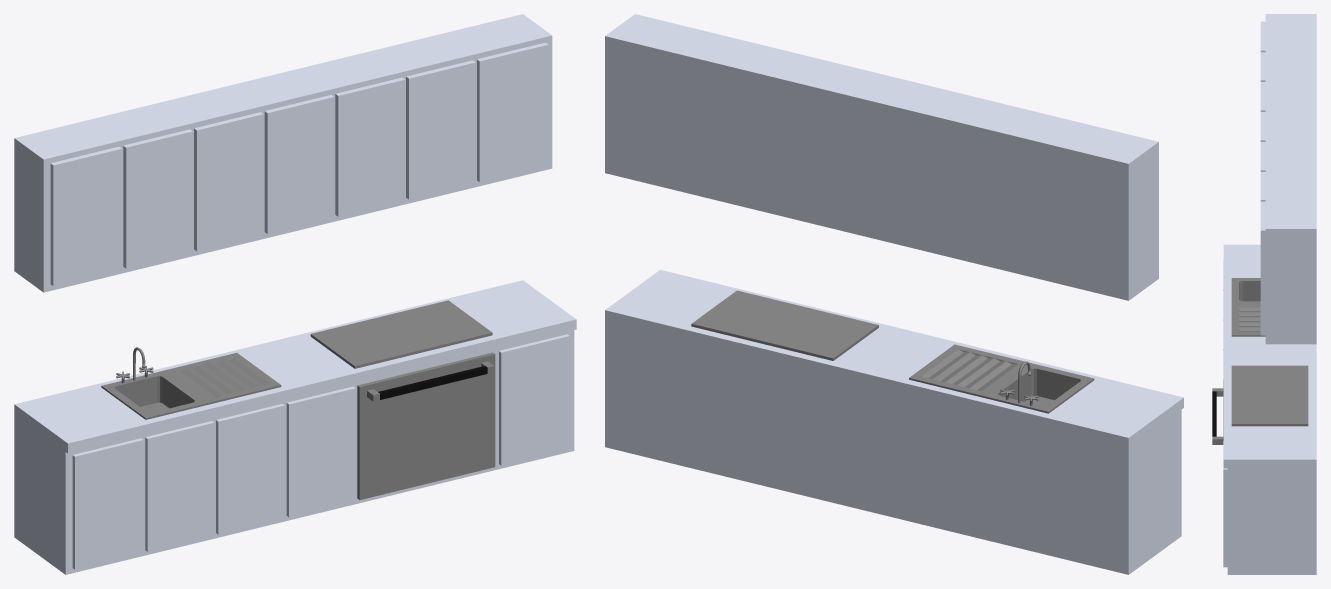
Rendered from Kitchen_CupboardSink_01.glb.
3 renders of one model, left to right at view 1: azimuth 30°, elevation 25°; view 2: azimuth 150°, elevation 25°; view 3: azimuth 270°, elevation 25°, orthographic. The views are drawn at different scales.
Visible parts, largest first — view 1: KitchCupboardsSink; view 2: KitchCupboardsSink; view 3: KitchCupboardsSink.
Part boxes in pixels (<box>): KitchCupboardsSink: <box>14,14,576,574</box>; KitchCupboardsSink: <box>605,14,1183,574</box>; KitchCupboardsSink: <box>1212,14,1316,574</box>.
Size of the model in its own units: 4 by 3 by 0.819.
Materials: 1 (1 with a texture image).
